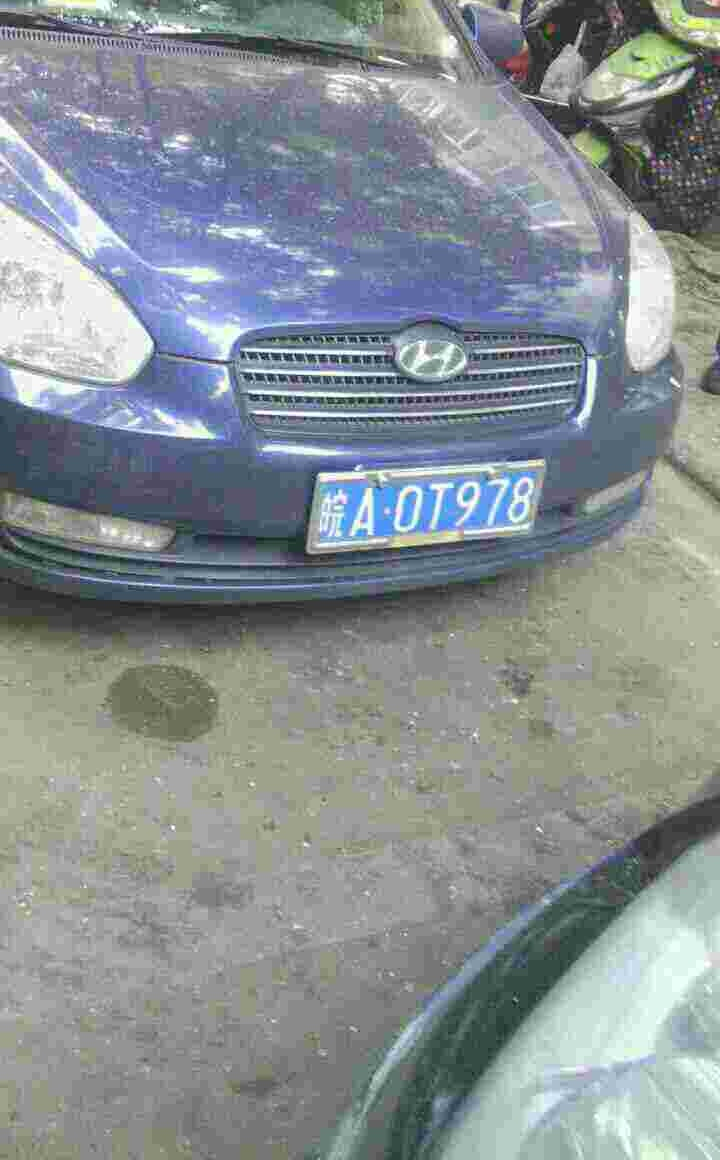license_plate: (329, 470, 537, 543)
